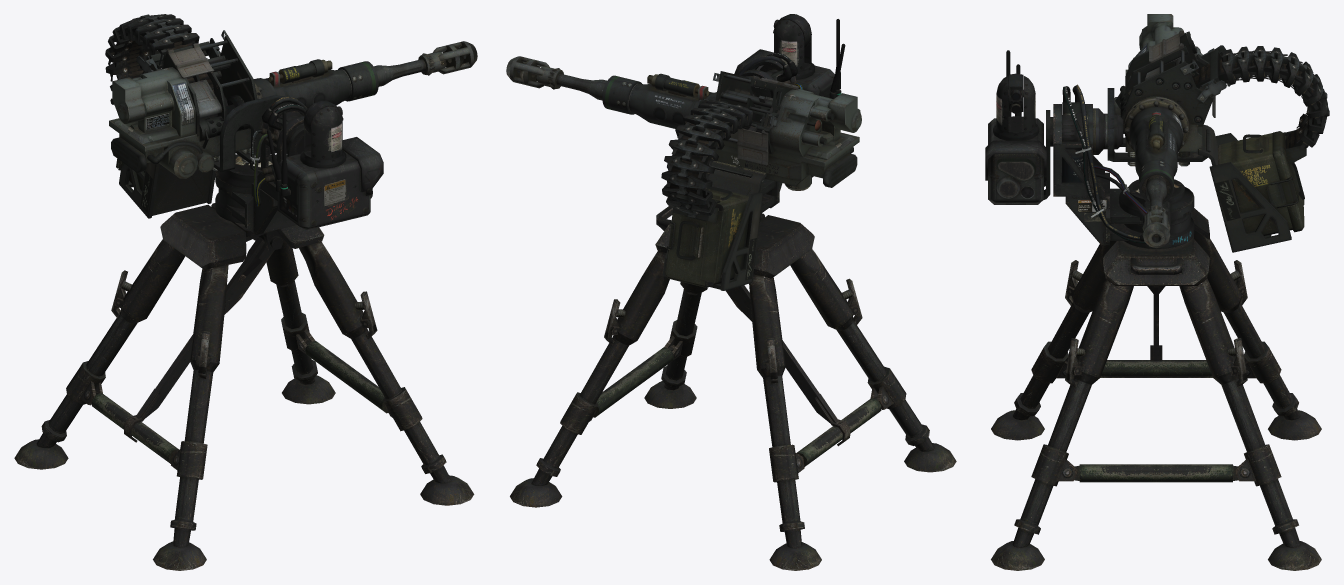
File: Sentry Chaingun.fbx
3 renders of one model, left to right at view 1: azimuth 30°, elevation 25°; view 2: azimuth 150°, elevation 25°; view 3: azimuth 270°, elevation 25°, orthographic. The views are drawn at different scales.
Parts seen in each view (by area): view 1: TomGroup_1, TomGroup_0, TomGroup_2, TomGroup_4, TomGroup_3; view 2: TomGroup_1, TomGroup_0, TomGroup_4, TomGroup_3, TomGroup_2; view 3: TomGroup_1, TomGroup_0, TomGroup_2, TomGroup_4, TomGroup_3, TomGroup_5.
Part boxes in pixels (x1,y1,x2,y2): TomGroup_1: [14, 203, 474, 570]; TomGroup_0: [105, 14, 383, 230]; TomGroup_2: [215, 96, 307, 234]; TomGroup_4: [373, 41, 477, 86]; TomGroup_3: [114, 28, 228, 106]; TomGroup_1: [510, 206, 956, 570]; TomGroup_0: [602, 14, 861, 290]; TomGroup_4: [506, 56, 606, 100]; TomGroup_3: [667, 113, 768, 209]; TomGroup_2: [667, 53, 803, 222]; TomGroup_1: [991, 208, 1321, 570]; TomGroup_0: [985, 14, 1329, 252]; TomGroup_2: [1050, 84, 1194, 248]; TomGroup_4: [1142, 175, 1170, 247]; TomGroup_3: [1193, 52, 1322, 149]; TomGroup_5: [998, 162, 1033, 197].
Bounding box in the file's own units: 135 × 145 × 105.
